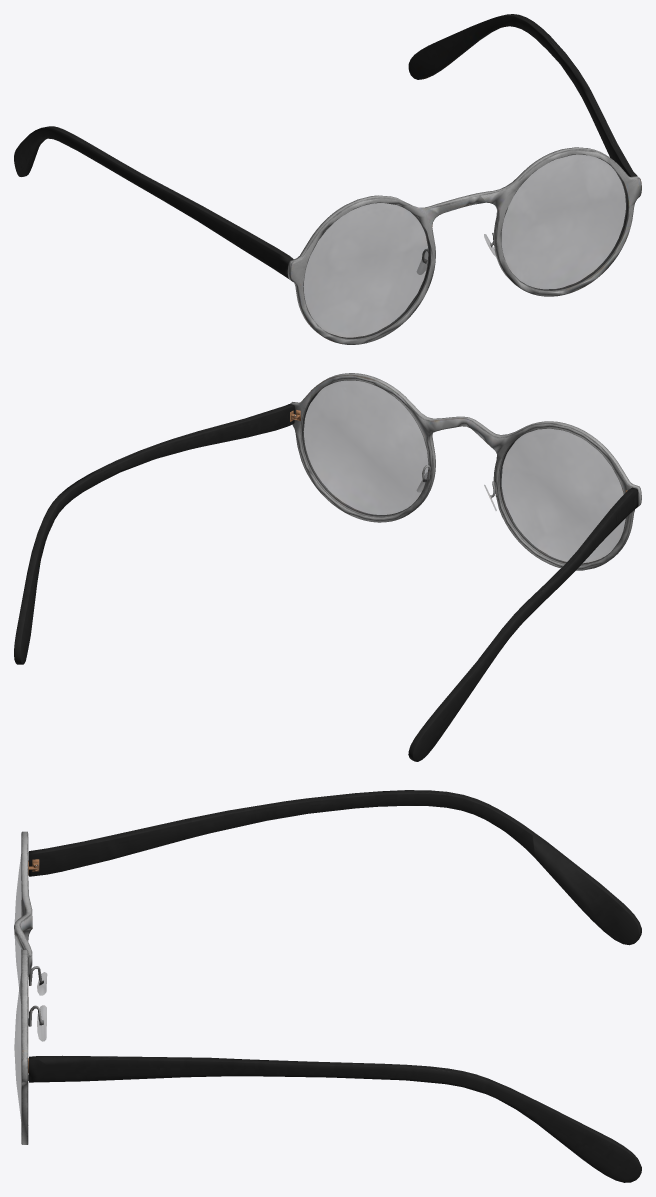
File: round_spectacles.glb
3 views of the same model, one above another, from view 1: azimuth 30°, elevation 25°; view 2: azimuth 150°, elevation 25°; view 3: azimuth 270°, elevation 25° (orthographic). The views are drawn at different scales.
Parts seen in each view (by area): view 1: round_spectacles; view 2: round_spectacles; view 3: round_spectacles.
Boxes of the visible parts, x1,y1,x2,y2 form: round_spectacles: (14,14,641,344); round_spectacles: (14,373,641,761); round_spectacles: (14,790,641,1182).
Size of the model in its own units: 0.1578 by 0.0463 by 0.149.
Materials: 2 (2 with a texture image).
